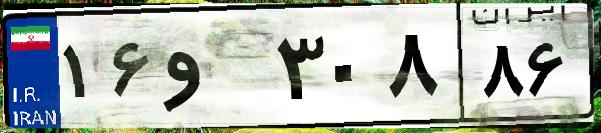0: (330, 28, 385, 110)
1: (57, 26, 110, 100)
3: (270, 28, 330, 110)
6: (525, 38, 570, 115), (110, 28, 158, 98)
8: (385, 28, 445, 110), (475, 38, 525, 113)
و: (158, 20, 270, 120)
